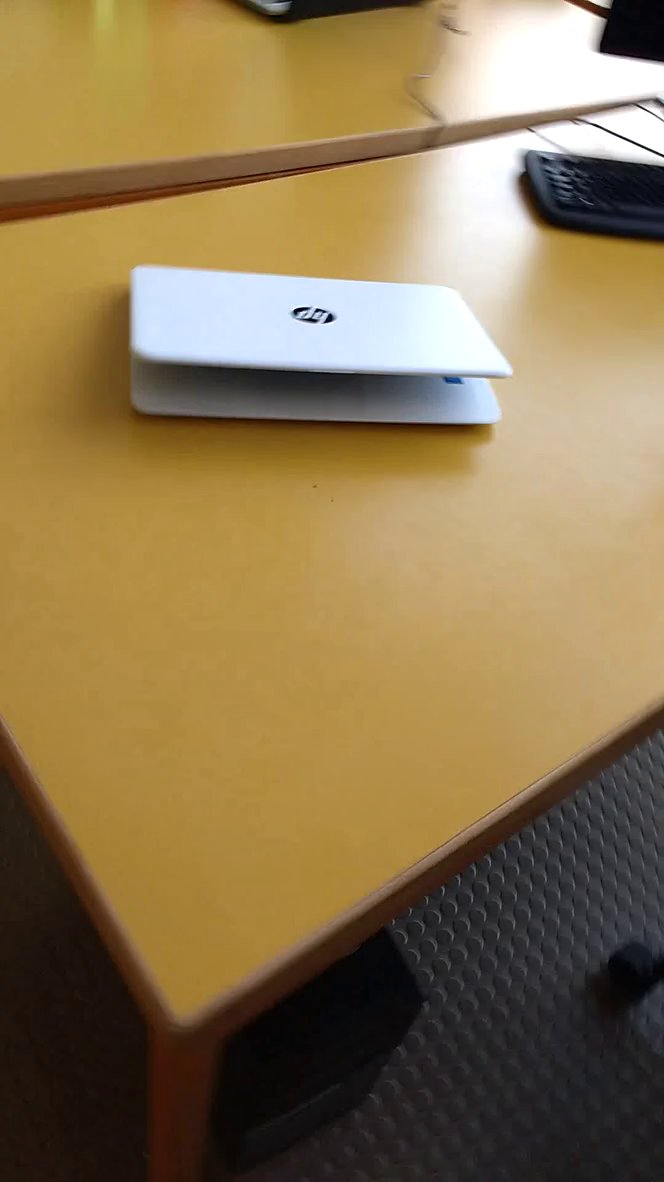laptop: (104, 244, 531, 452)
